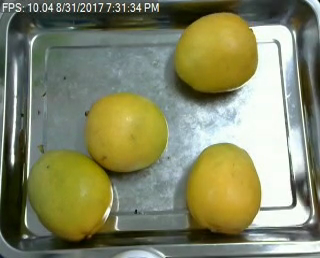Mango: (27, 151, 112, 241), (185, 142, 261, 234), (174, 11, 258, 91), (85, 92, 167, 172)
